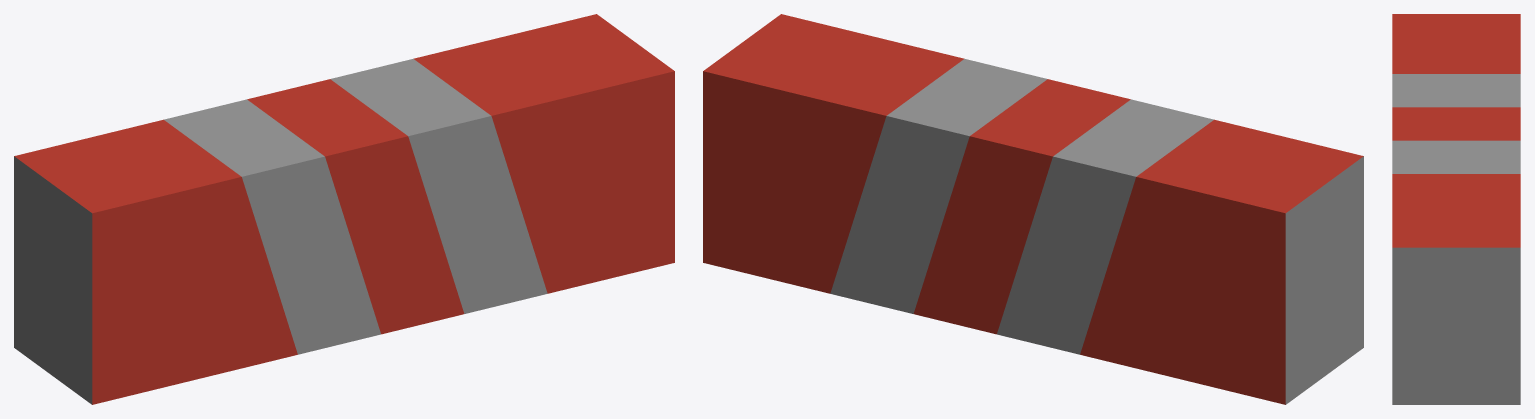
The model's file is blockBrick.fbx.
3 renders of one model, left to right at view 1: azimuth 30°, elevation 25°; view 2: azimuth 150°, elevation 25°; view 3: azimuth 270°, elevation 25°, orthographic. The views are drawn at different scales.
Parts seen in each view (by area): view 1: Cube.002; view 2: Cube.002; view 3: Cube.002.
Boxes of the visible parts, left/top/right/bottom form: Cube.002: left=14, top=14, right=674, bottom=404; Cube.002: left=703, top=14, right=1363, bottom=404; Cube.002: left=1392, top=14, right=1520, bottom=404.
Size of the model in its own units: 518 by 163 by 120.
